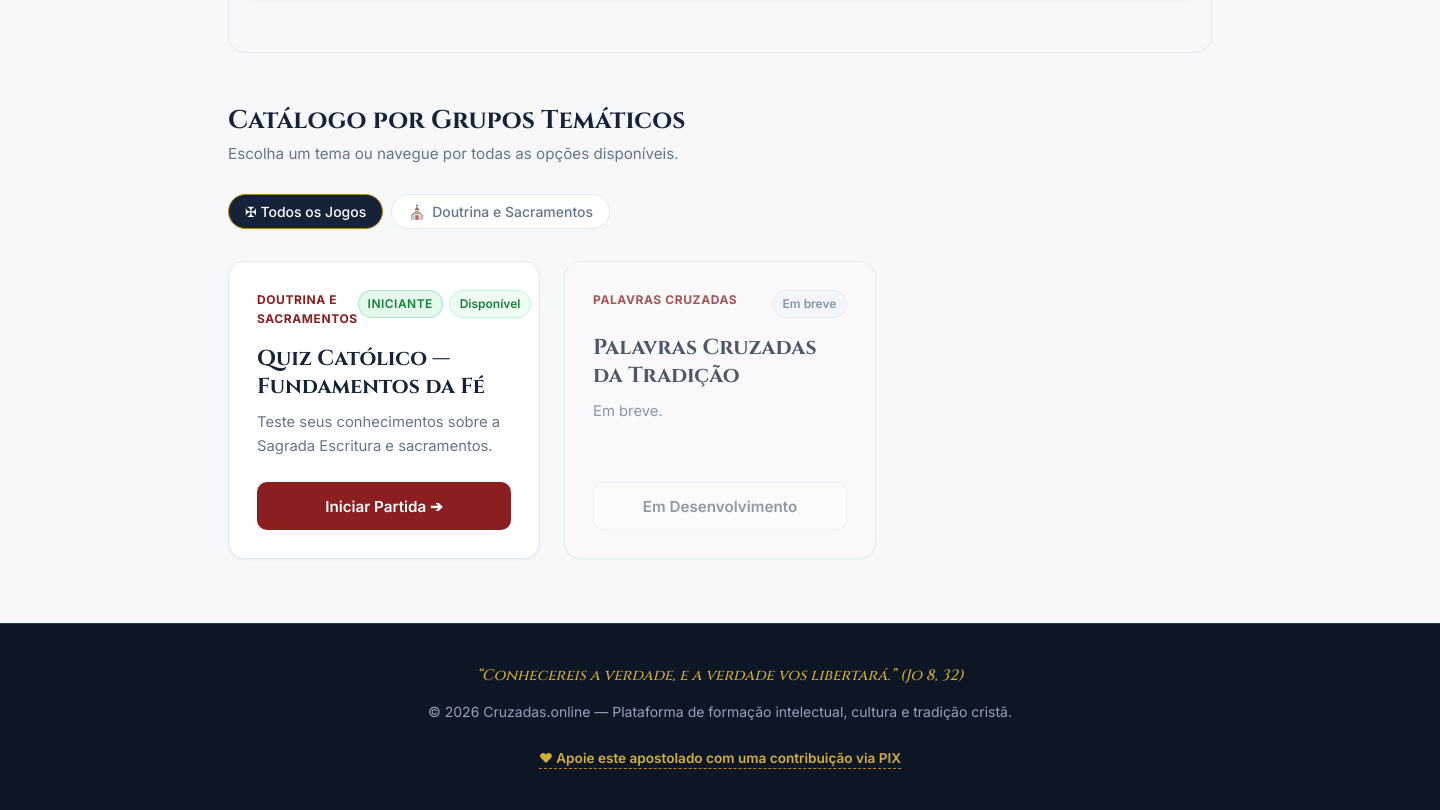
it: Fluxo Completo do Quiz Católico no Cruzadas.online › deve carregar a home, exibir o catálogo, iniciar a partida, responder e concluir com sucesso
(page scrolled)
Expected: the heading "Quiz Católico — Fundamentos da Fé" is shown, [257,345,511,401]
Expected: the heading "Palavras Cruzadas da Tradição" is shown, [593,334,847,390]
Iniciar partida
Click the button with aria-label "iniciar partida de quiz católico" at (384, 506), box [257,482,511,530]
(page scrolled)
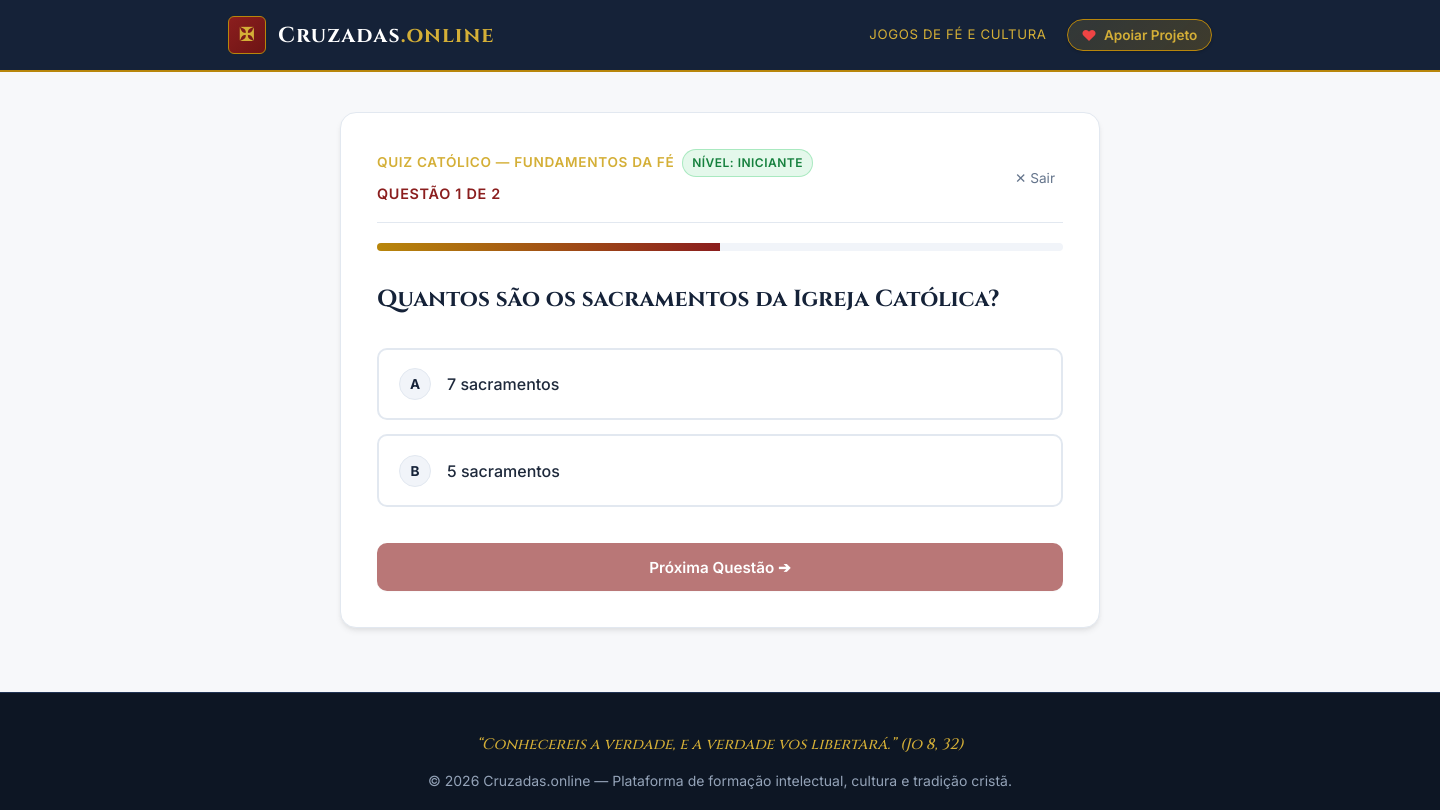
Expected: the text "Questão 1 de 2" is shown, [377,185,501,202]
Expected: the text "Nível: Iniciante" is shown, [682,149,813,177]
Expected: the heading "Quantos são os sacramentos da Igreja Católica?" is shown, [377,283,1063,316]
Selecionar alternativa 7 sacramentos
Click the text "7 sacramentos" at (503, 384), box [447,374,559,394]
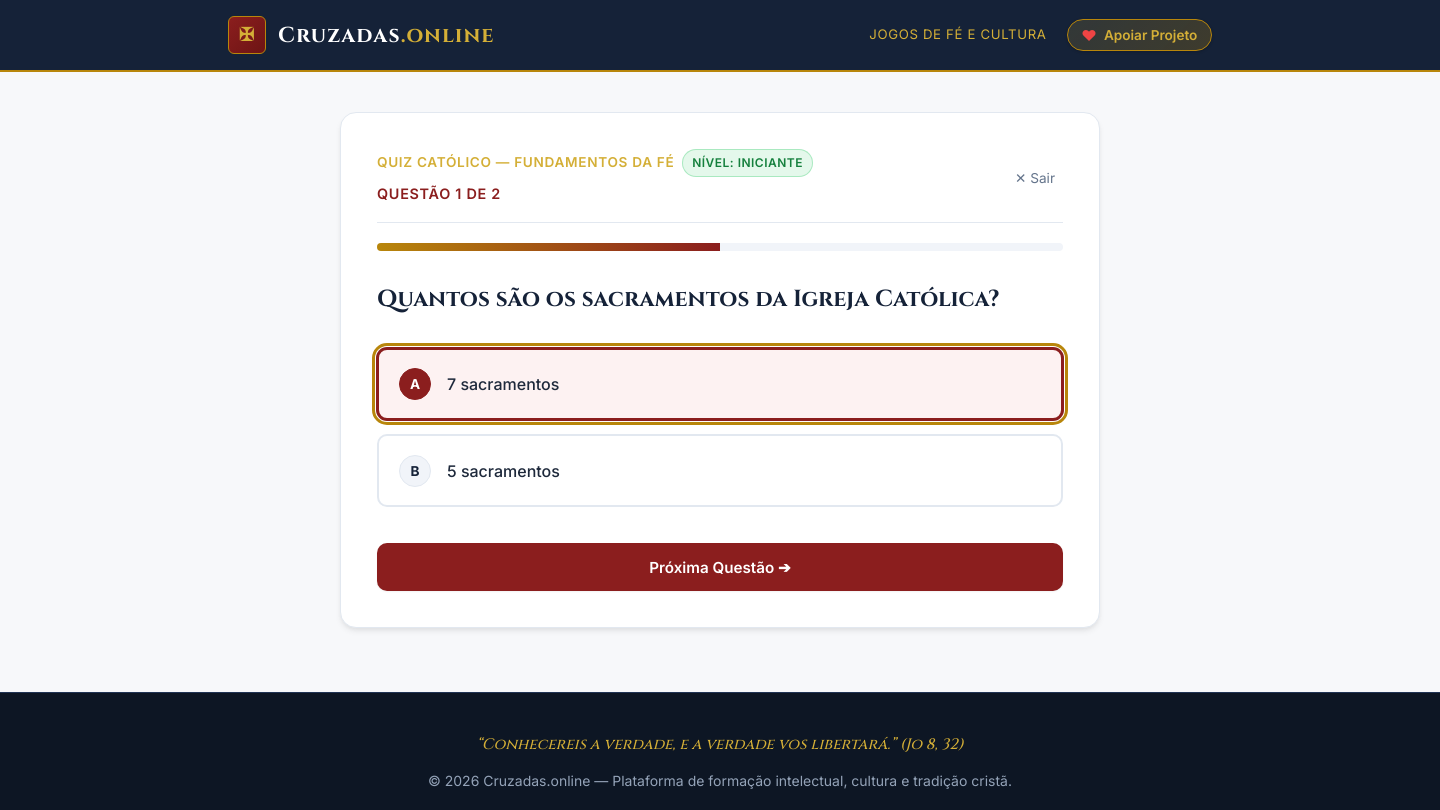
 Avançar
Click the button "Próxima Questão ➔" at (720, 567), box [377,543,1063,591]
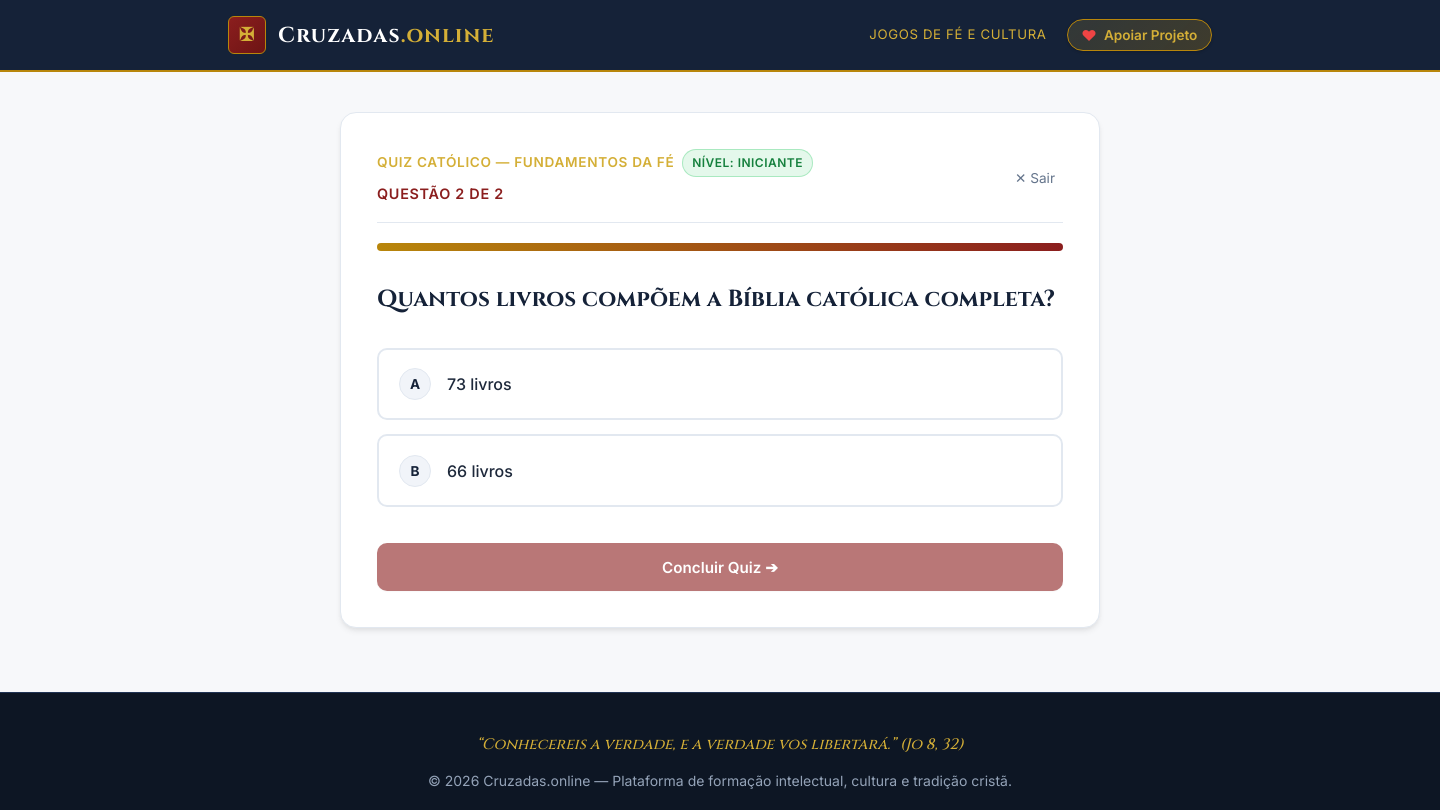
Expected: the text "Questão 2 de 2" is shown, [377,185,504,202]
Expected: the heading "Quantos livros compõem a Bíblia católica completa?" is shown, [377,283,1063,316]
Selecionar alternativa 73 livros
Click the text "73 livros" at (479, 384), box [447,374,512,394]
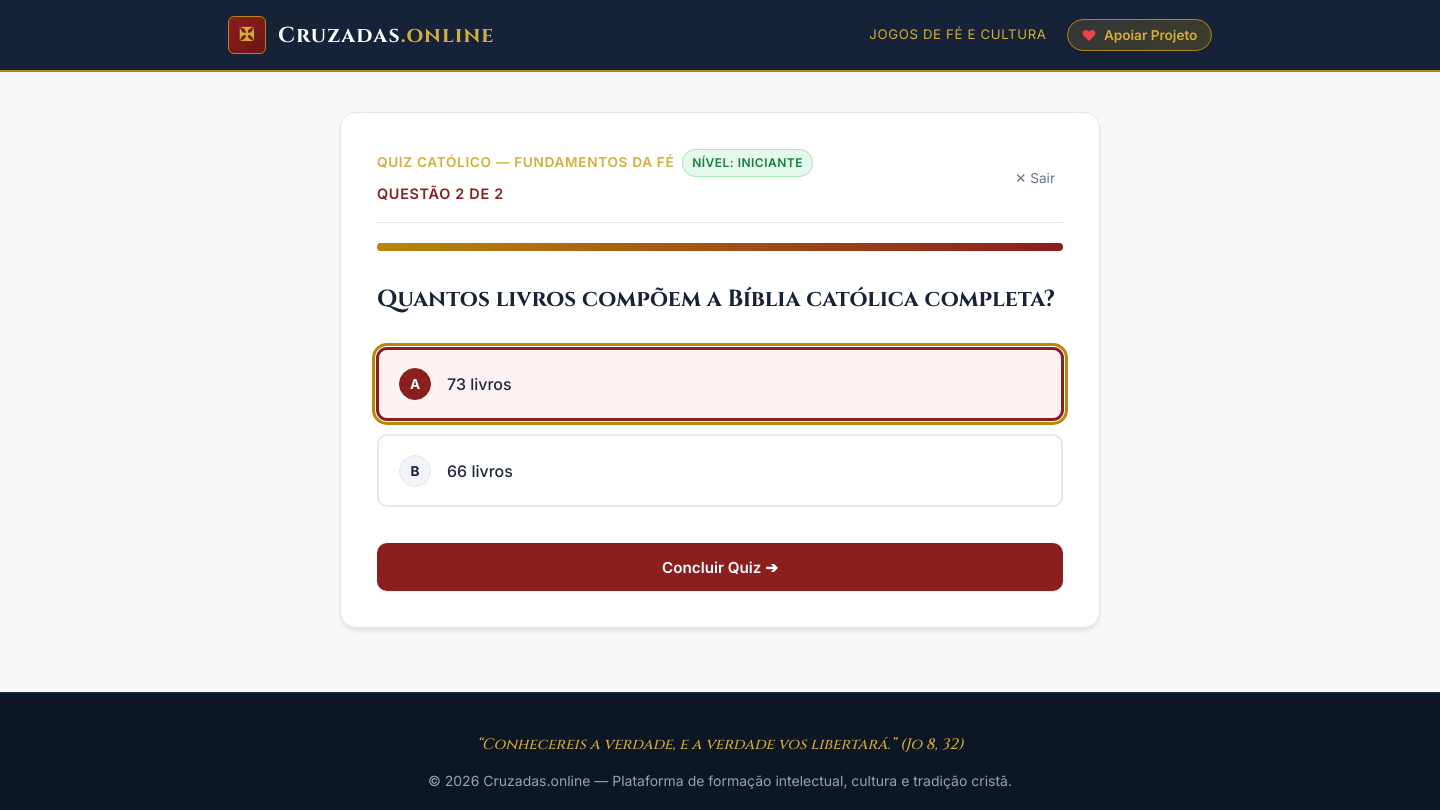
Concluir quiz
Click the button "Concluir Quiz ➔" at (720, 567), box [377,543,1063,591]
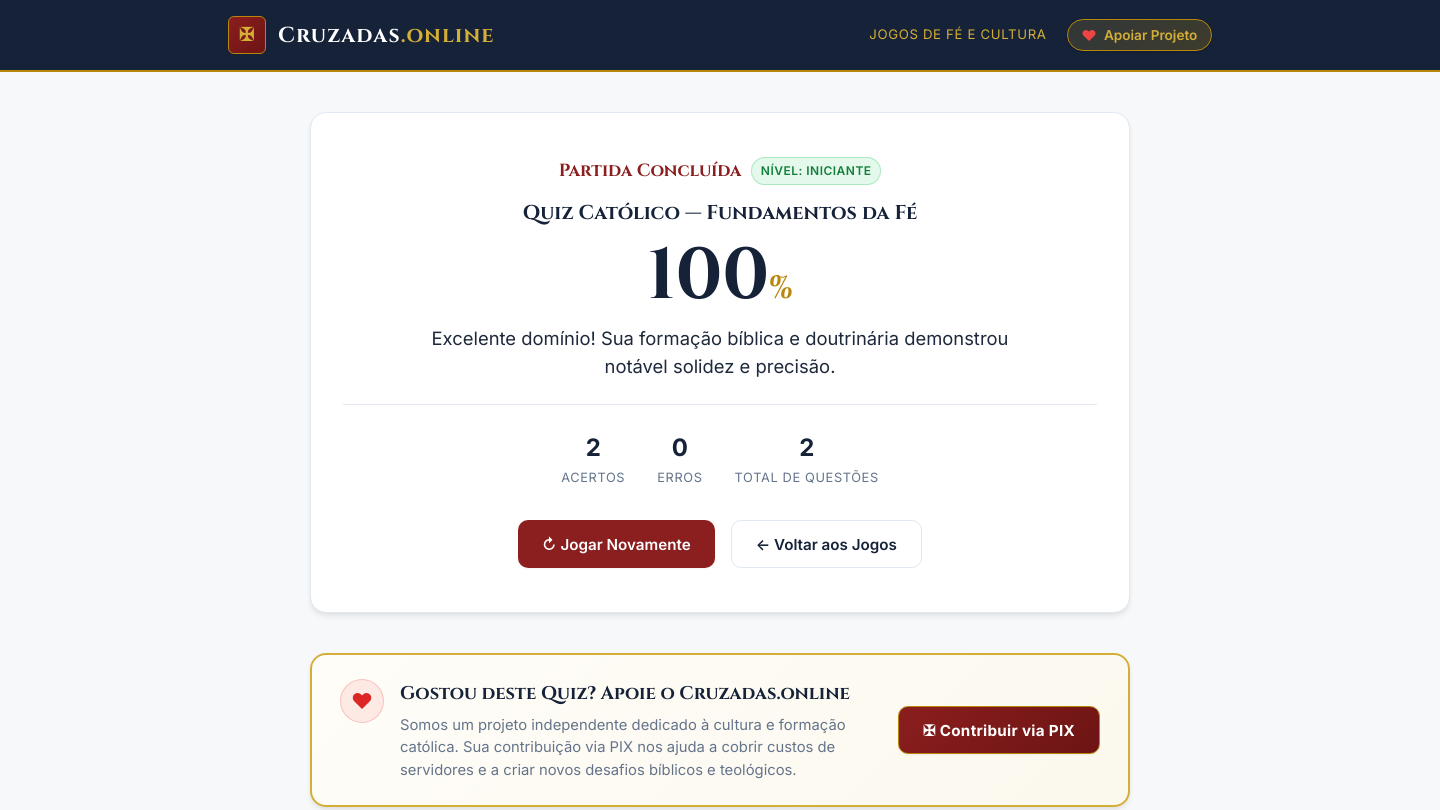
Expected: the text "Nível: Iniciante" is shown, [751,157,881,185]
Expected: the text "Partida Concluída" is shown, [559,157,741,185]
Expected: the heading "100%" is shown, [647,228,793,325]
Click the button "↻ Jogar Novamente" at (616, 544), box [518,520,715,568]
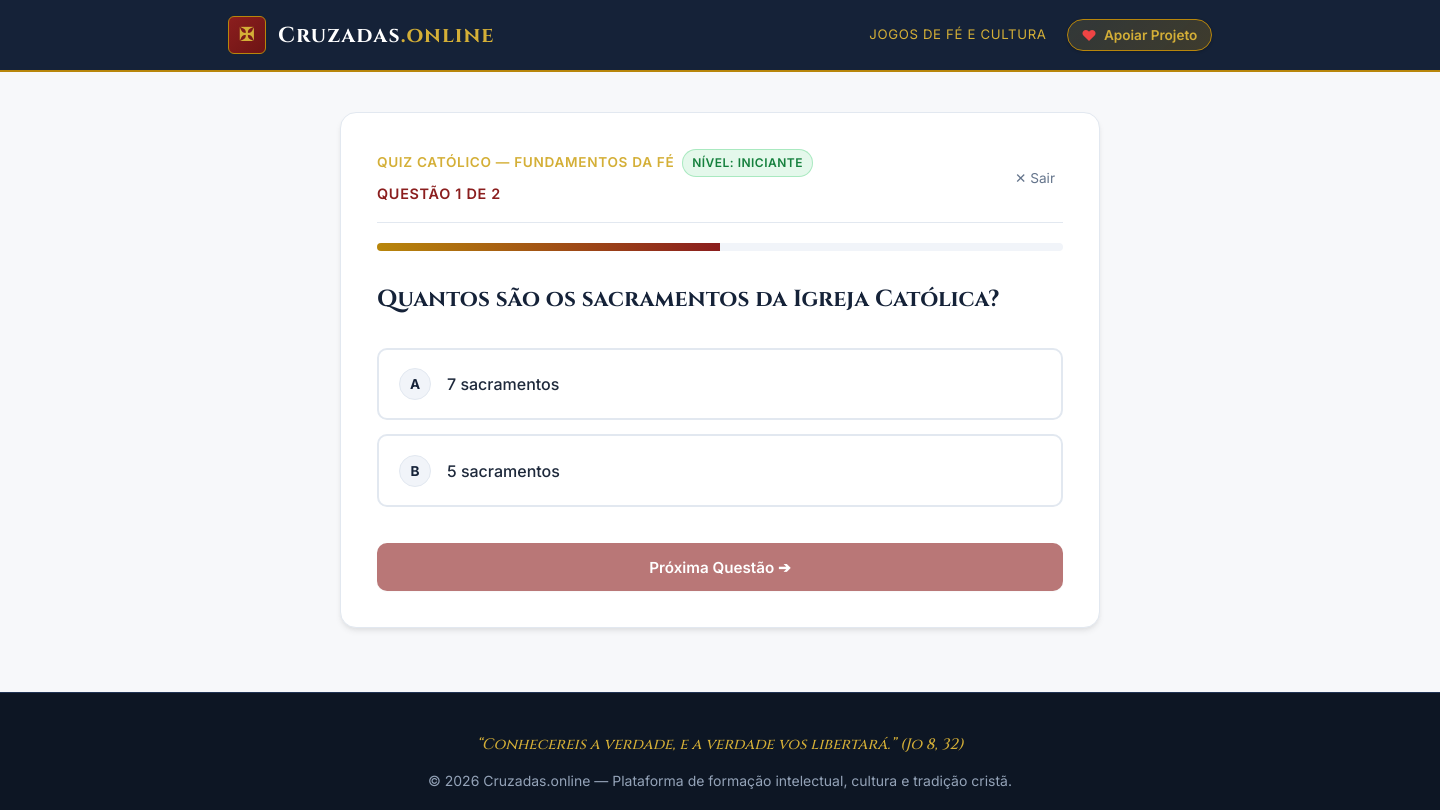
Expected: the text "Questão 1 de 2" is shown, [377,185,501,202]
